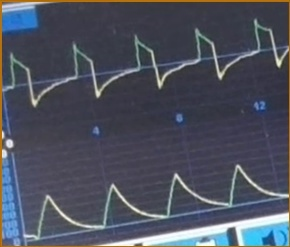Normal Flow: (4, 17, 290, 108)
Normal Volume: (25, 162, 288, 241)
